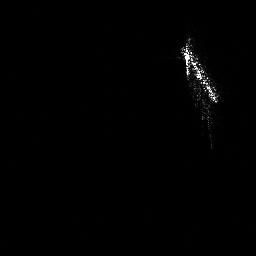ship: (179, 40, 222, 104)
